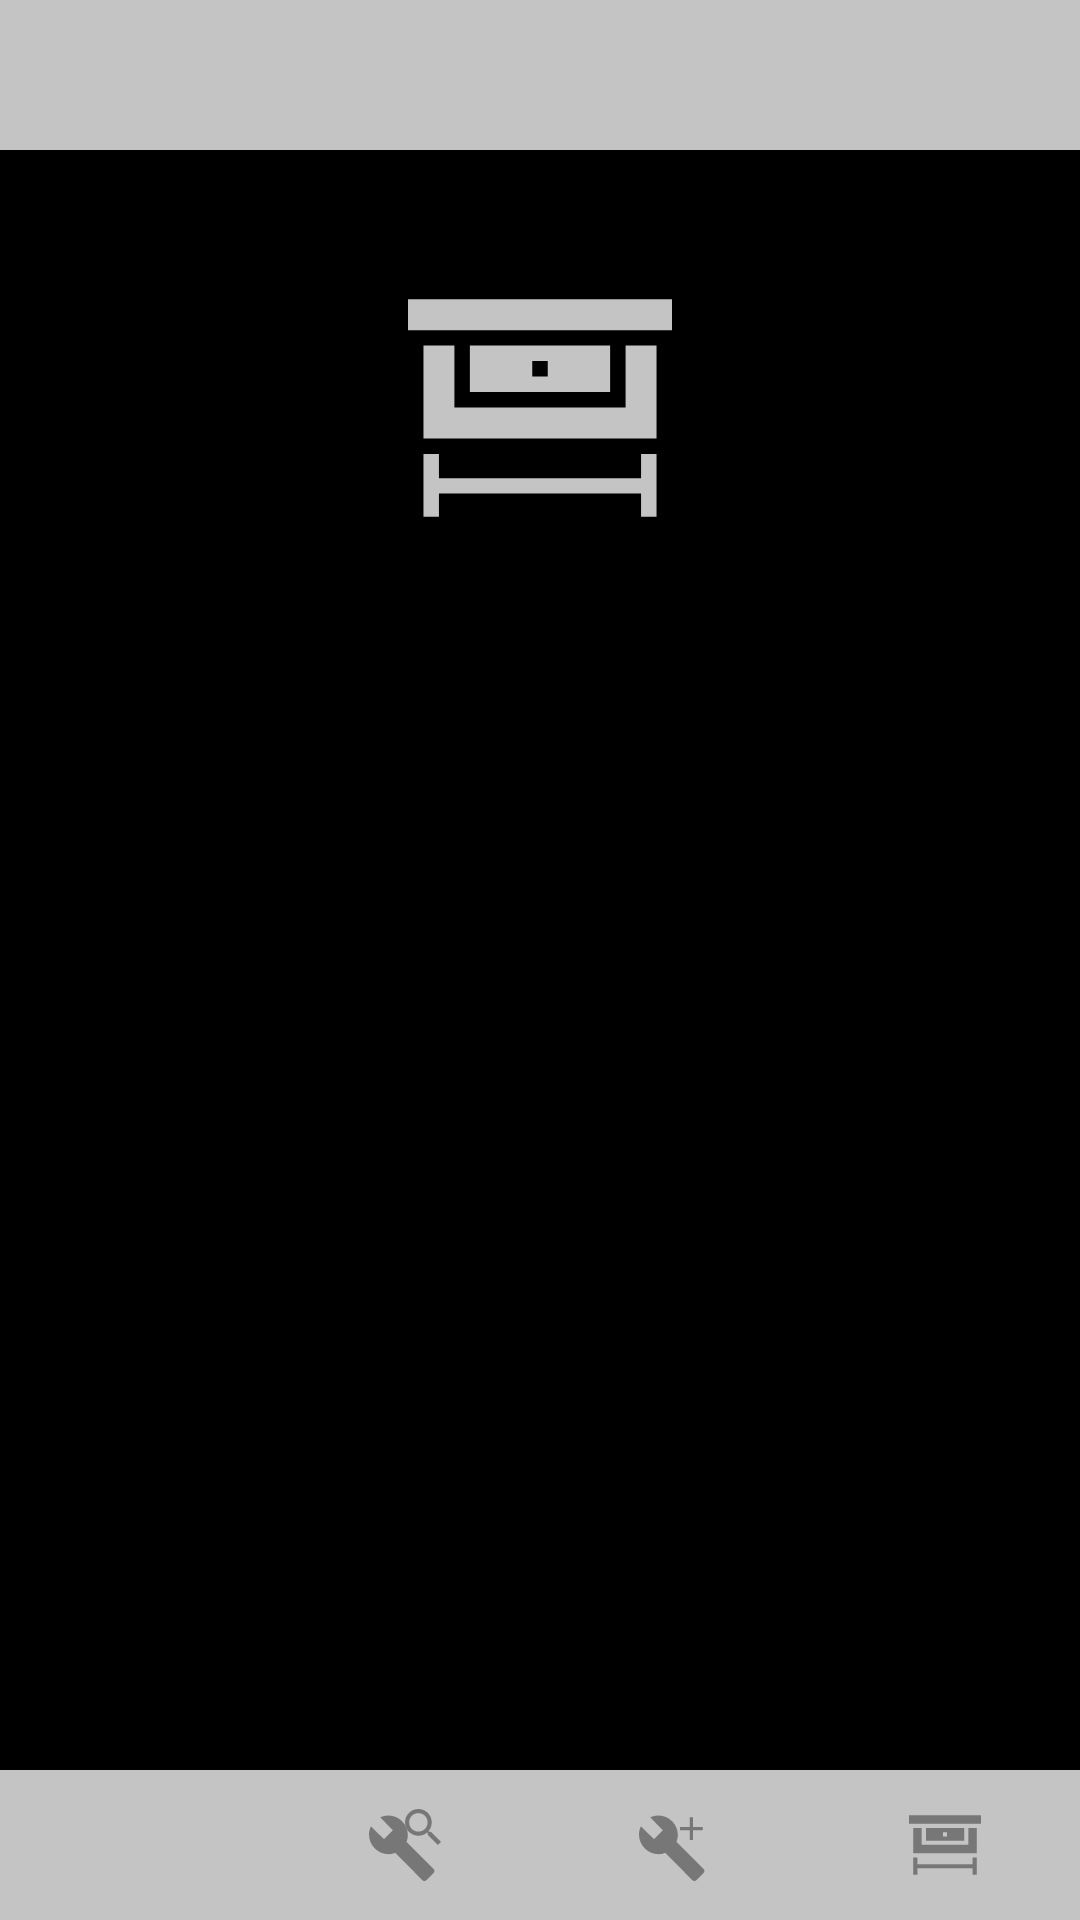

Named icons in this screenshot (1080w x 1920h) and their bounding boxes, detection(x1, y1, x2, y2):
workbench: detection(408, 299, 672, 517)
